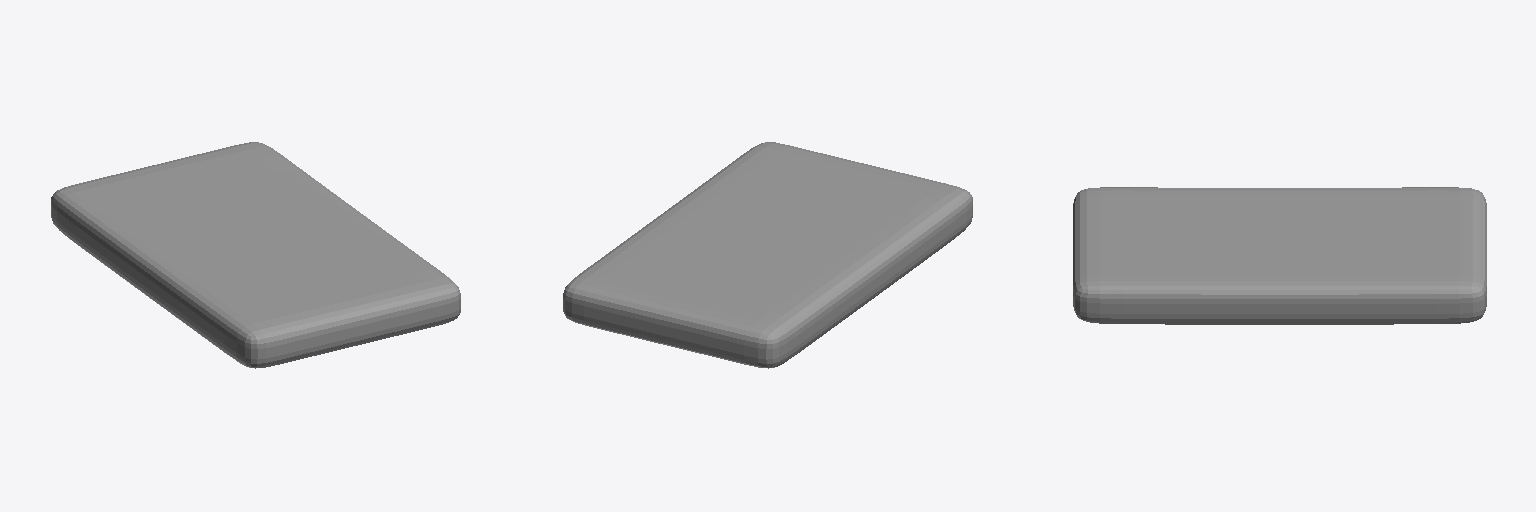
Rendered from Foam.obj.
3 views of the same model, side by side, from view 1: azimuth 30°, elevation 25°; view 2: azimuth 150°, elevation 25°; view 3: azimuth 270°, elevation 25° (orthographic).
Visible parts, largest first — view 1: Cube_Cube.001; view 2: Cube_Cube.001; view 3: Cube_Cube.001.
Part boxes in pixels (bbox=[...]): Cube_Cube.001: bbox=[51, 142, 460, 368]; Cube_Cube.001: bbox=[563, 142, 972, 368]; Cube_Cube.001: bbox=[1073, 187, 1486, 324].
Bounding box in the file's own units: 4.45 × 0.7995 × 7.3.